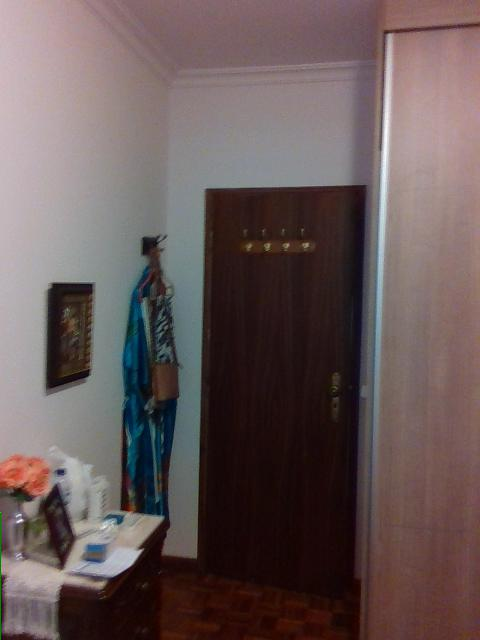door: (193, 184, 365, 595)
